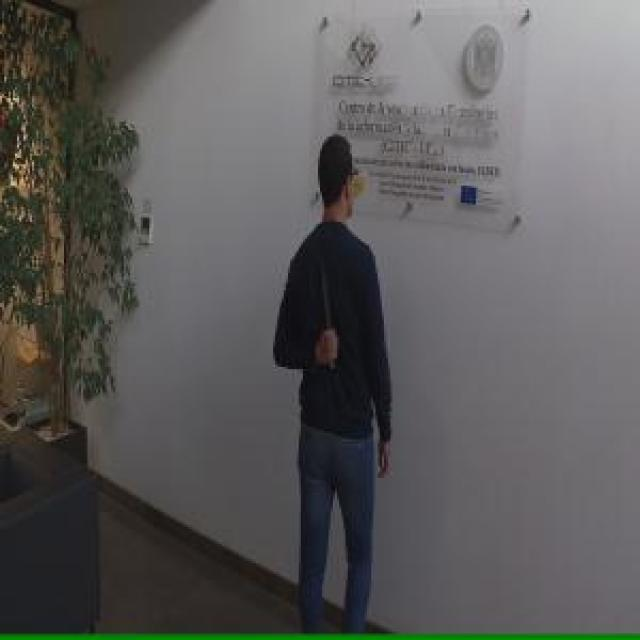knife: (318, 263, 339, 370)
